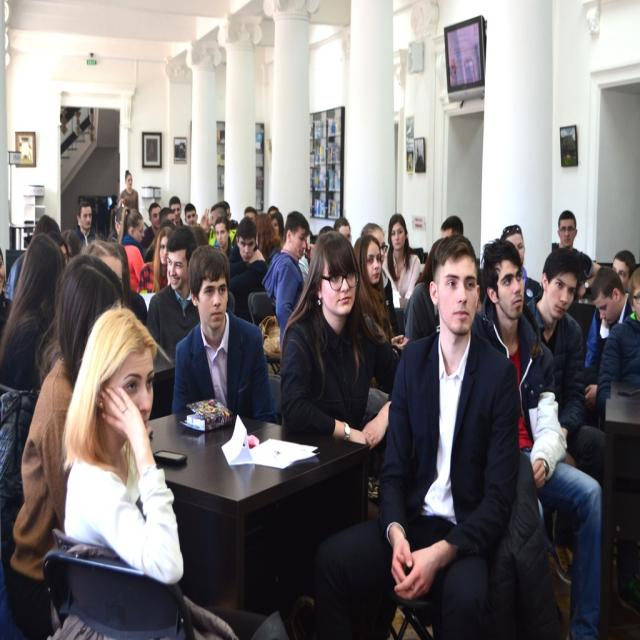chair: (42, 536, 192, 638), (248, 290, 276, 326), (268, 374, 282, 423)
desk: (150, 404, 385, 630)
person: (313, 234, 519, 634), (60, 308, 257, 632), (472, 240, 604, 634), (4, 252, 122, 634), (279, 228, 393, 475), (170, 243, 278, 423), (534, 247, 605, 494), (146, 224, 200, 369), (354, 227, 405, 380), (592, 267, 640, 427), (262, 210, 310, 346), (227, 216, 267, 322), (384, 214, 423, 312)
tv: (443, 14, 487, 101)
